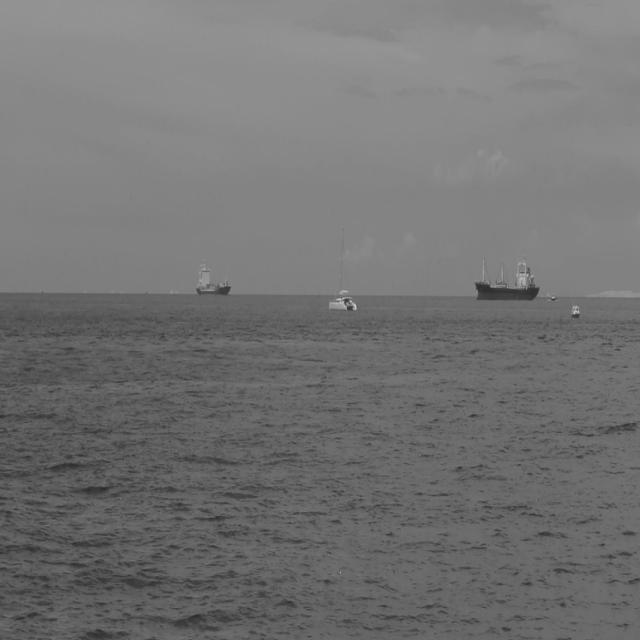boat: (328, 222, 358, 313)
ship: (472, 250, 541, 302), (195, 259, 232, 298), (570, 301, 582, 320), (550, 293, 556, 301)
